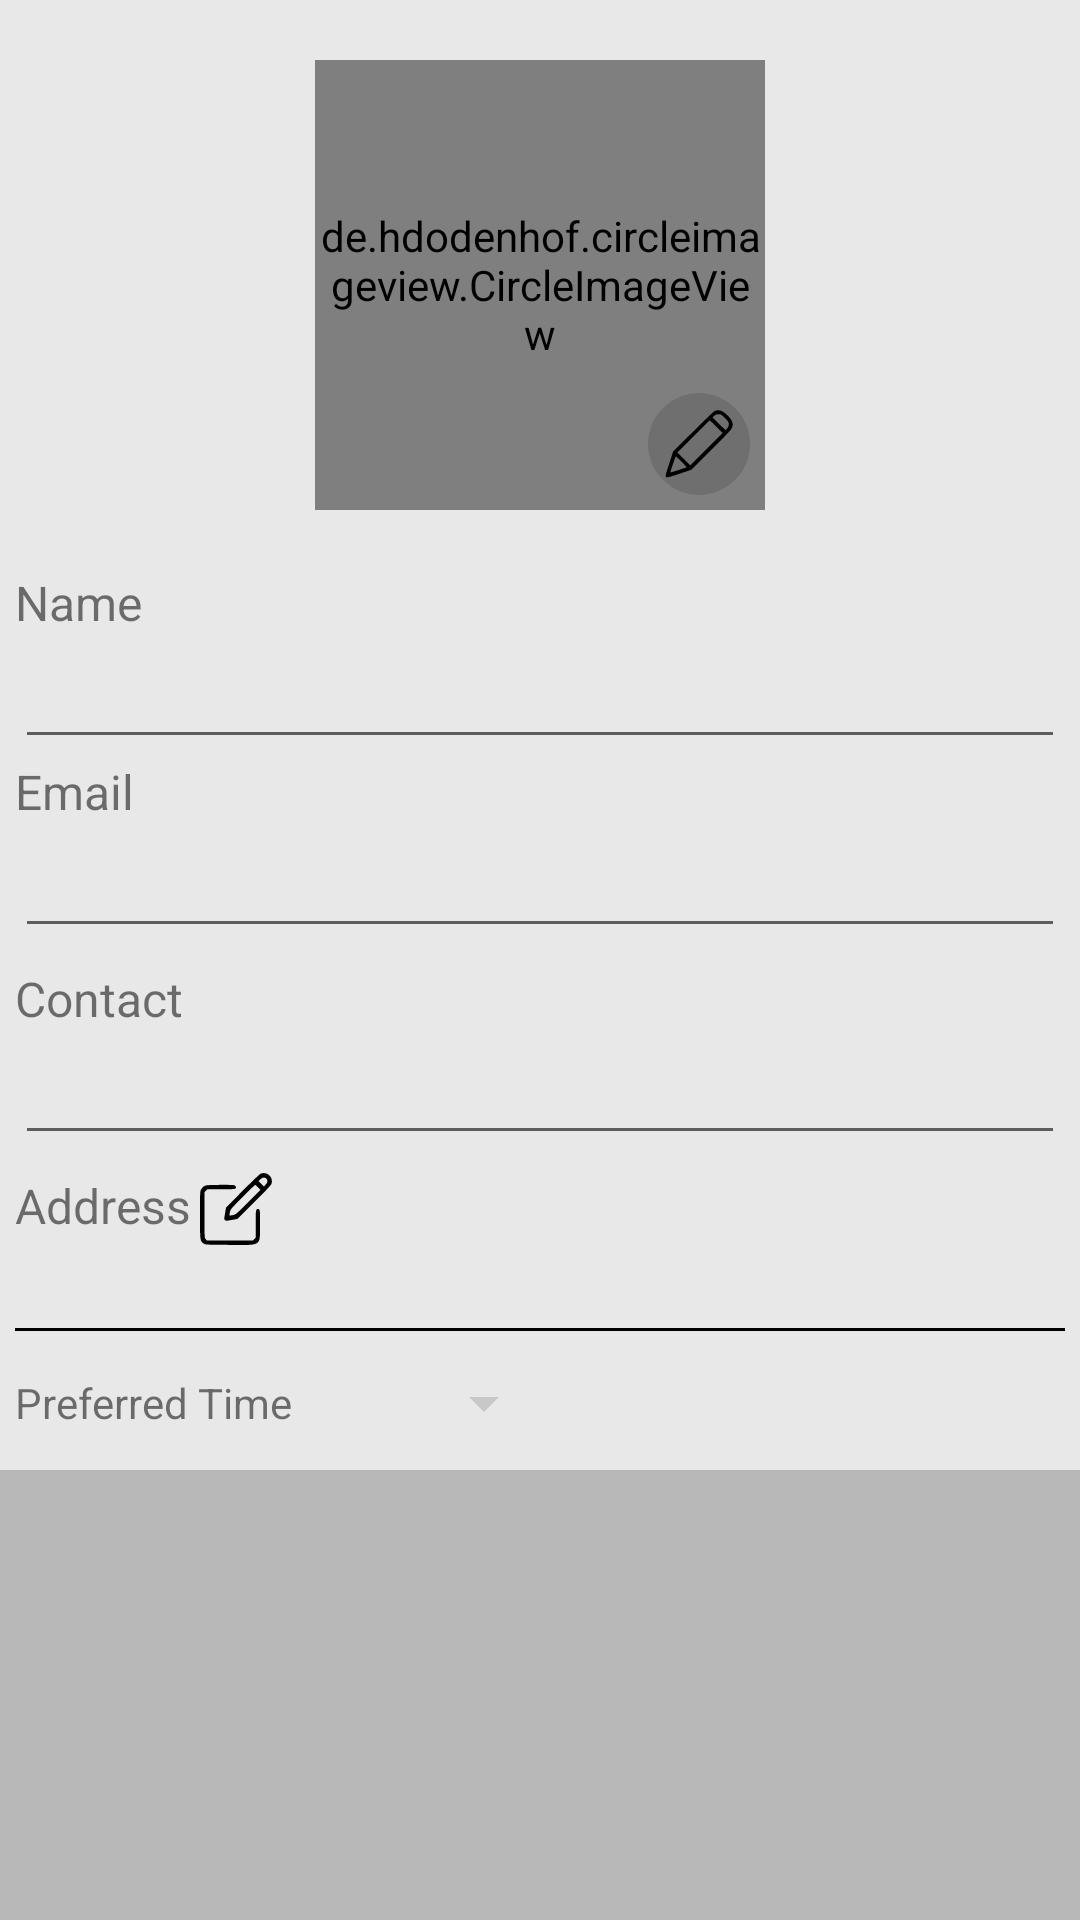

Where icons sit on this 1080 × 1920 app screen, as (x1, y1, x2, y2):
edit: (200, 1173, 272, 1245)
pen: (665, 410, 733, 478)
